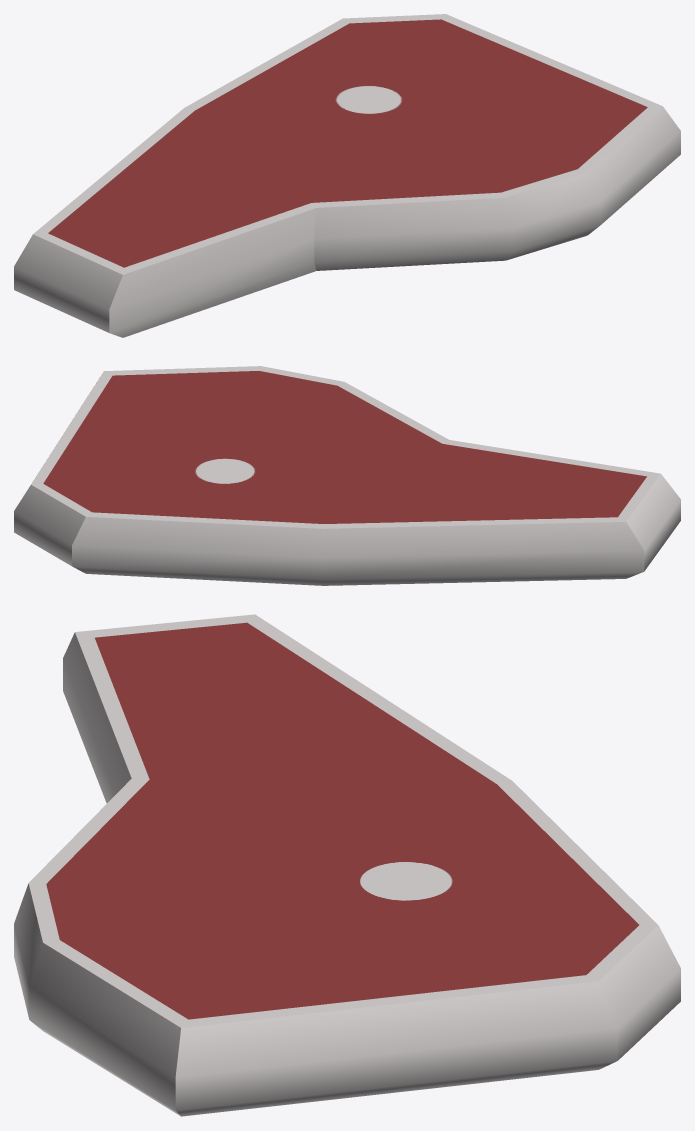
File: RawMeat.FBX
3 renders of one model, top to bottom at view 1: azimuth 30°, elevation 25°; view 2: azimuth 150°, elevation 25°; view 3: azimuth 270°, elevation 25°, orthographic. The views are drawn at different scales.
Visible parts, largest first — view 1: RawMeat; view 2: RawMeat; view 3: RawMeat.
Part boxes in pixels (left/top/right/bottom): RawMeat: left=14, top=14, right=680, bottom=337; RawMeat: left=14, top=366, right=680, bottom=585; RawMeat: left=14, top=614, right=680, bottom=1116.
Bounding box in the file's own units: 17.96 × 1.69 × 11.56.
